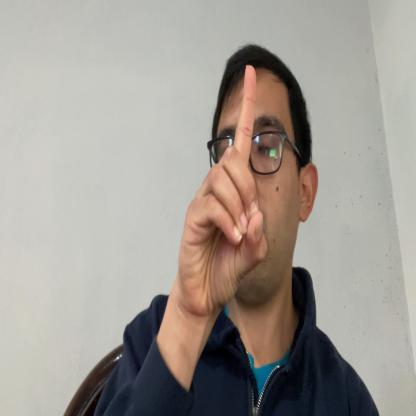D: (178, 64, 268, 318)
